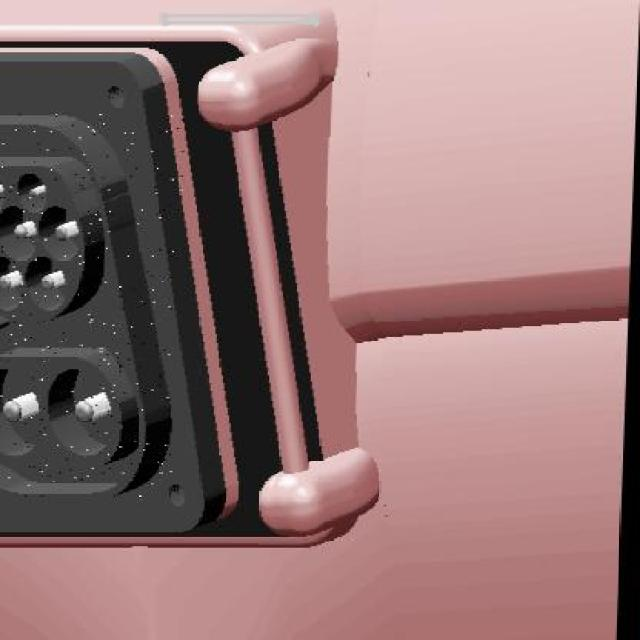CCS2: (0, 150, 167, 521)
